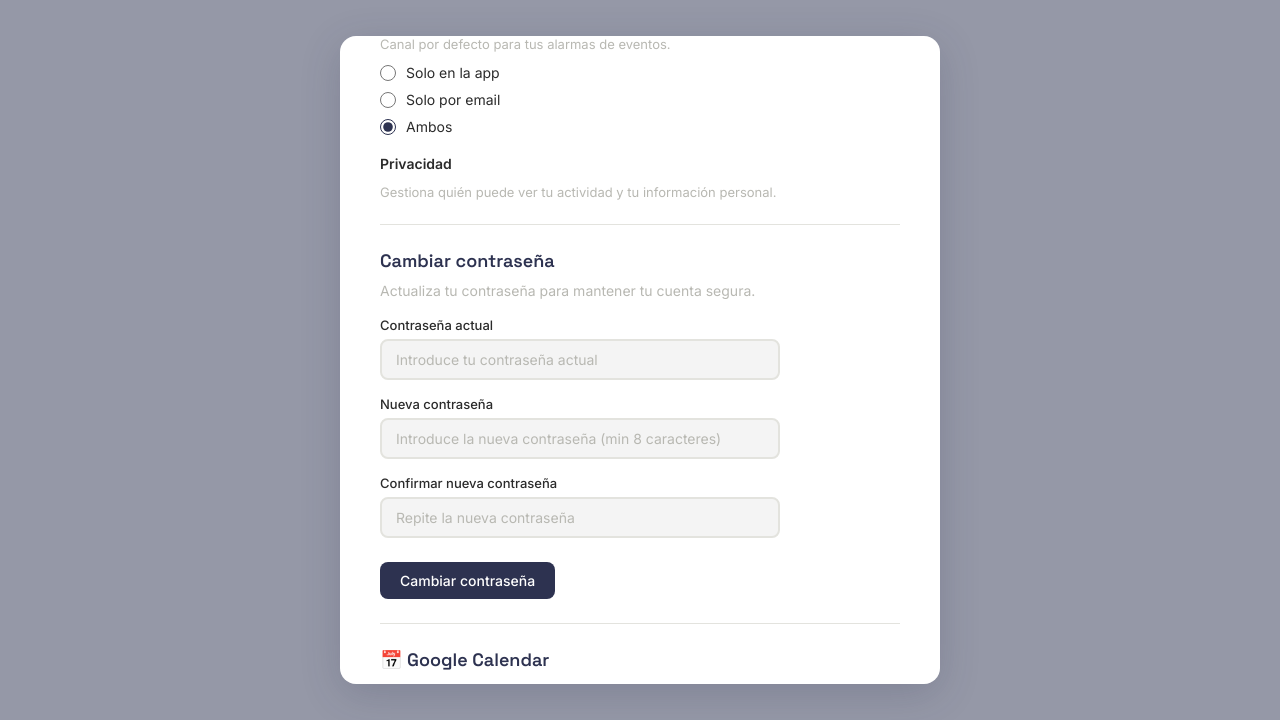
it: Settings › password change - passwords do not match
The width and height of the screenshot is (1280, 720).
(page scrolled)
Type "OldPass1" into the password field with placeholder "Introduce tu contraseña actual" at coordinates (580, 360), box [380,339,780,380]
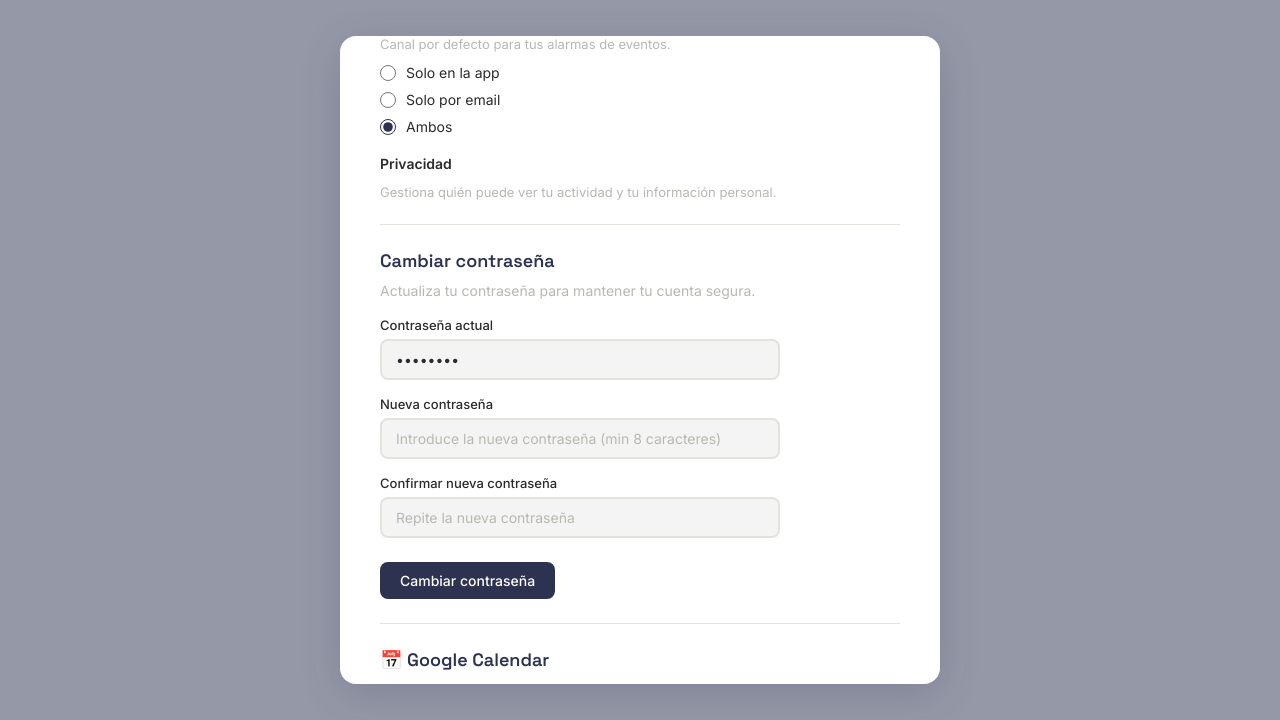
Type "NewPass123" into the password field with placeholder "Introduce la nueva contraseña (min 8 caracteres)" at coordinates (580, 438), box [380,418,780,459]
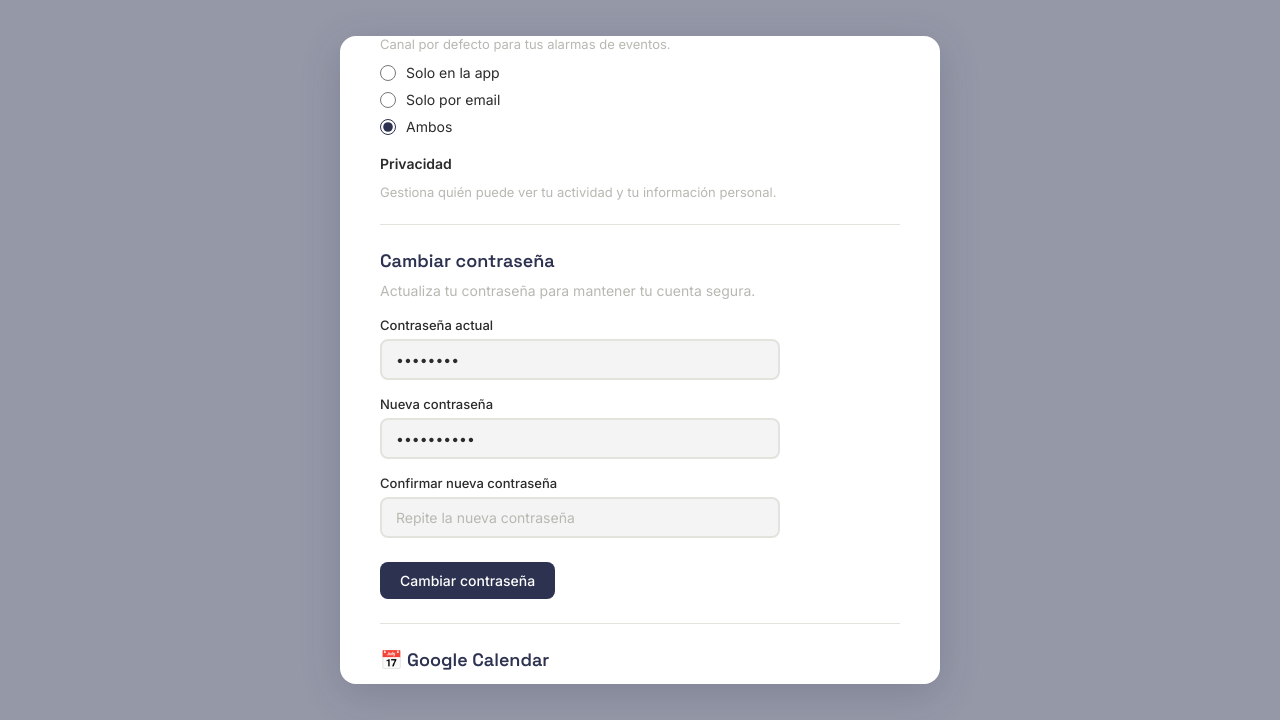
Type "DiffPass123" into the password field with placeholder "Repite la nueva contraseña" at coordinates (580, 518), box [380,497,780,538]
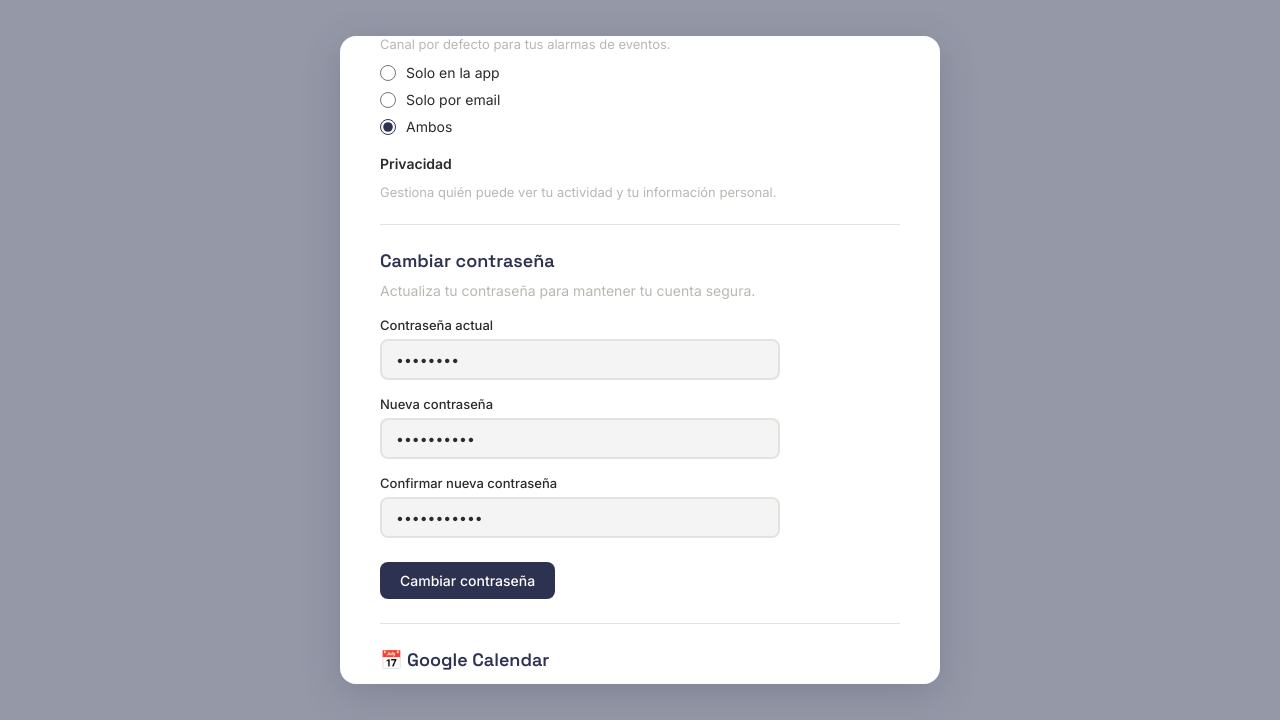
Click the button "Cambiar contraseña" at coordinates (468, 580), box [380,562,555,599]
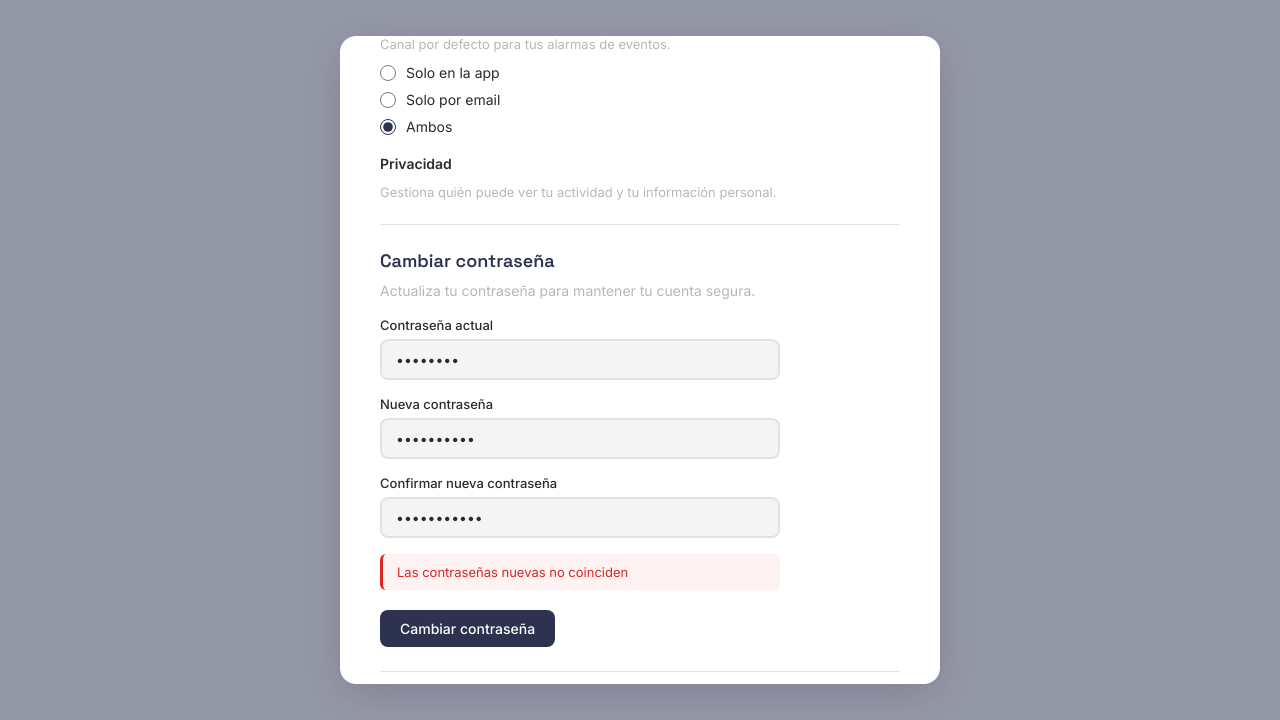
Now the text "Las contraseñas nuevas no coinciden" is shown, box [380,554,780,590]
